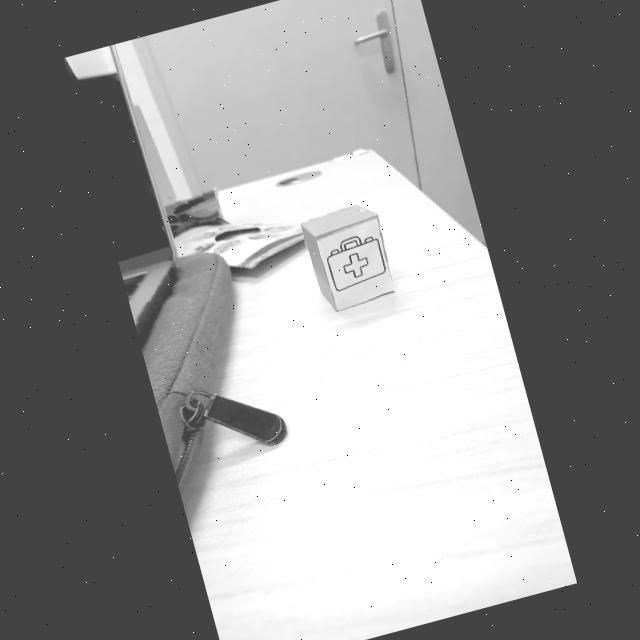Medkit: (327, 235, 387, 291)
